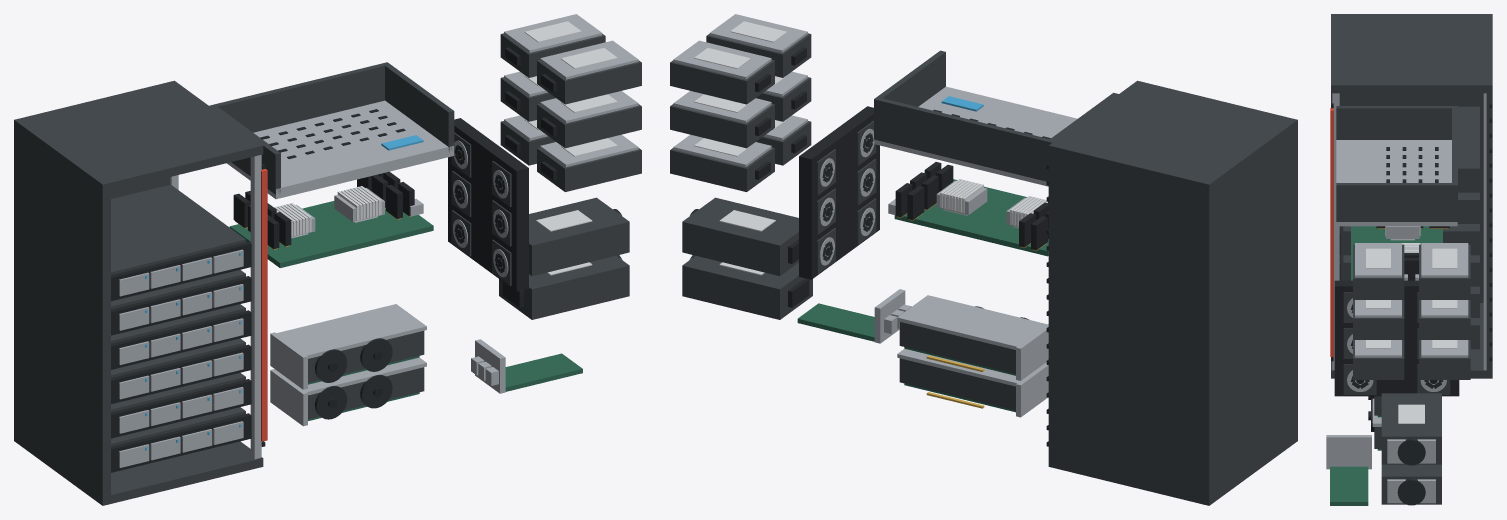
Rendered from cocometric-original-2026-07-12.glb.
3 renders of one model, left to right at view 1: azimuth 30°, elevation 25°; view 2: azimuth 150°, elevation 25°; view 3: azimuth 270°, elevation 25°, orthographic. The views are drawn at different scales.
Visible parts, largest first — view 1: Rack_Left_Side, Rack_Top, Exploded_Chassis_Base, Installed_Server_5, Fan_Wall, Exploded_Chassis_Back, PSU_0, Motherboard, Rack_Bottom, PSU_1, GPU_1_Backplate, Rack_Right_Rail_Front (+36 smaller); view 2: Rack_Back, Rack_Left_Side, Rack_Top, Exploded_Chassis_Back, Fan_Wall, PSU_0, PSU_1, Exploded_Chassis_Base, GPU_1_Backplate, Motherboard, GPU_0_Body, GPU_1_Body (+17 smaller); view 3: Rack_Top, Exploded_Chassis_Base, Exploded_Chassis_Right, Exploded_Chassis_Left, Fan_Wall, Rack_Left_Side, PSU_0, Installed_Server_5, Rack_Back, NIC_PCB, NIC_Bracket, Drive_0_0 (+41 smaller).
Part boxes in pixels (box(x1,y1,x2,y2)): Rack_Left_Side: box(14, 118, 110, 505); Rack_Top: box(14, 80, 263, 192); Exploded_Chassis_Base: box(227, 100, 453, 199); Installed_Server_5: box(111, 184, 245, 274); Fan_Wall: box(448, 118, 528, 291); Exploded_Chassis_Back: box(210, 62, 389, 132); PSU_0: box(529, 197, 629, 275); Motherboard: box(229, 201, 433, 267); Rack_Bottom: box(14, 438, 263, 505); PSU_1: box(499, 256, 629, 319); GPU_1_Backplate: box(274, 304, 426, 358); Rack_Right_Rail_Front: box(250, 154, 261, 459); Rack_Back: box(1048, 153, 1212, 497); Rack_Left_Side: box(1201, 118, 1297, 505); Rack_Top: box(1048, 80, 1297, 192); Exploded_Chassis_Back: box(874, 98, 1051, 181); Fan_Wall: box(799, 106, 879, 279); PSU_0: box(682, 197, 798, 275); PSU_1: box(682, 256, 812, 319); Exploded_Chassis_Base: box(874, 86, 1077, 186); GPU_1_Backplate: box(897, 295, 1048, 349); Motherboard: box(894, 179, 1048, 256); GPU_0_Body: box(899, 358, 1015, 410); GPU_1_Body: box(899, 322, 1015, 373); Rack_Top: box(1331, 14, 1492, 93); Exploded_Chassis_Base: box(1336, 140, 1457, 226); Exploded_Chassis_Right: box(1336, 183, 1457, 221); Exploded_Chassis_Left: box(1336, 106, 1457, 139); Fan_Wall: box(1334, 280, 1459, 396); Rack_Left_Side: box(1331, 14, 1492, 302); PSU_0: box(1381, 393, 1441, 464); Installed_Server_5: box(1458, 106, 1479, 192); Rack_Back: box(1486, 92, 1492, 371); NIC_PCB: box(1330, 466, 1368, 505); NIC_Bracket: box(1326, 435, 1371, 469); Drive_0_0: box(1419, 244, 1470, 299).
Size of the model in its own units: 8.02 by 4.4 by 2.26.
